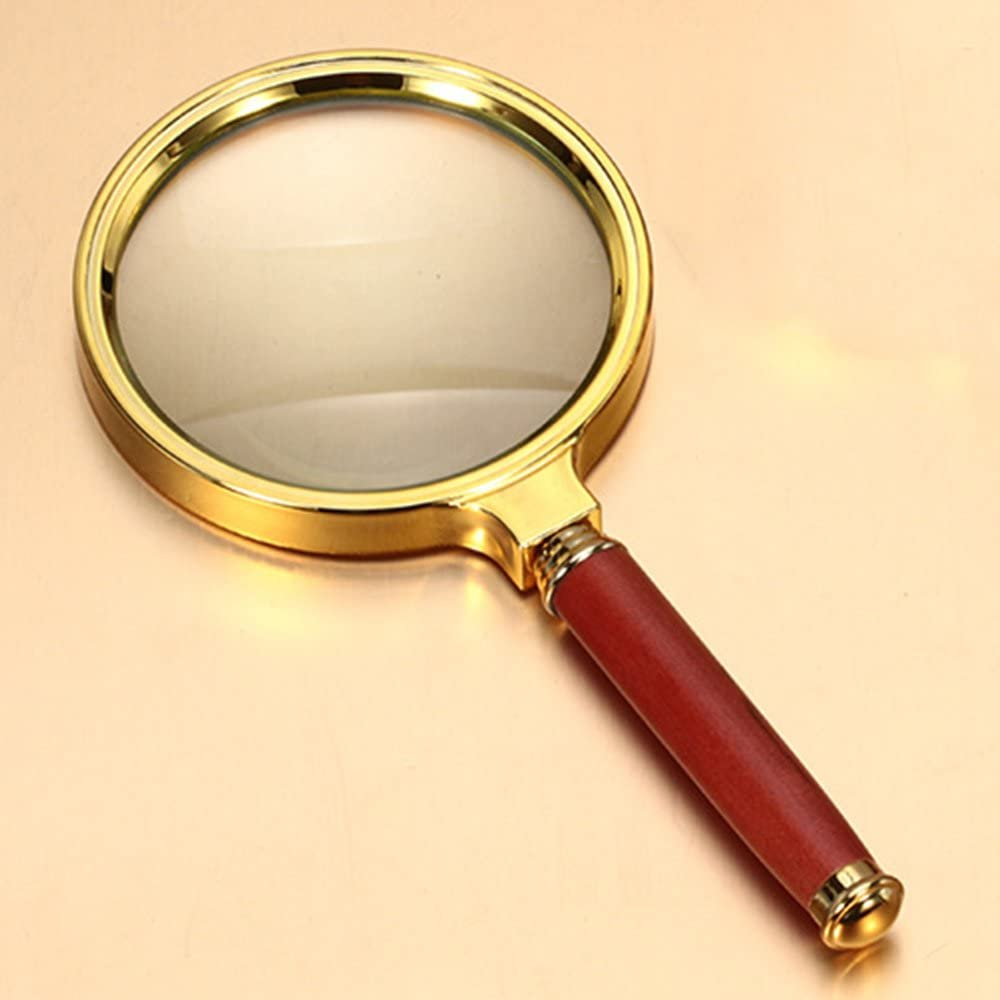magnifying-glass: (69, 48, 714, 723)
